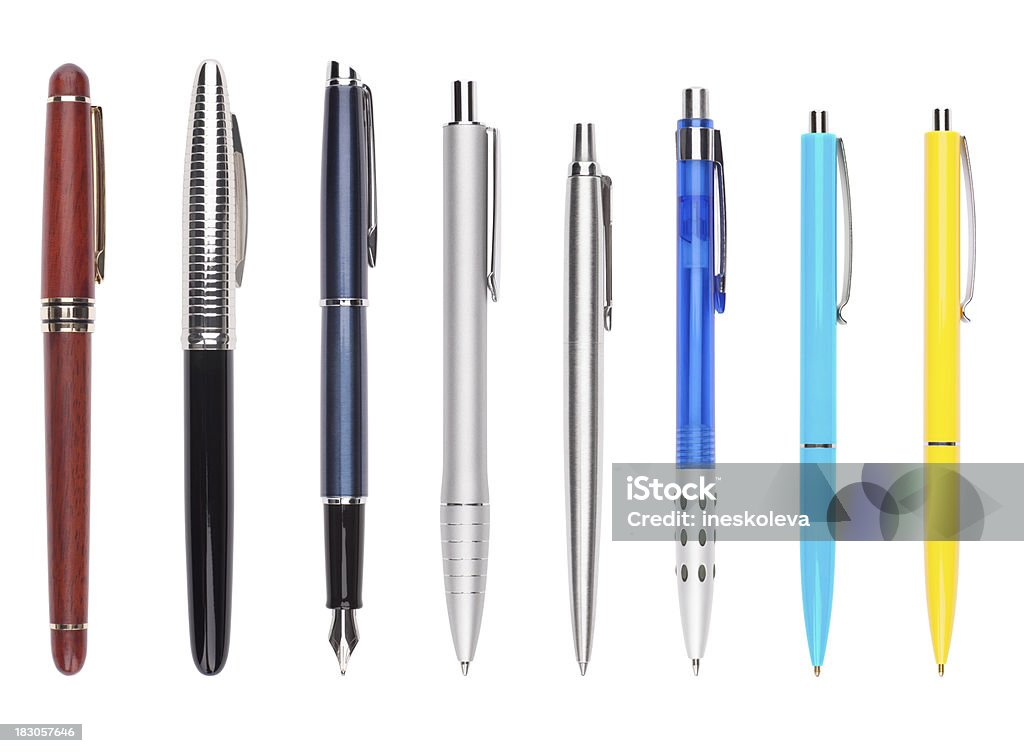pen: (169, 43, 277, 688), (429, 73, 523, 681), (550, 98, 647, 684), (308, 41, 396, 684), (28, 56, 116, 692), (906, 85, 990, 689), (785, 84, 864, 704), (664, 54, 738, 684)
